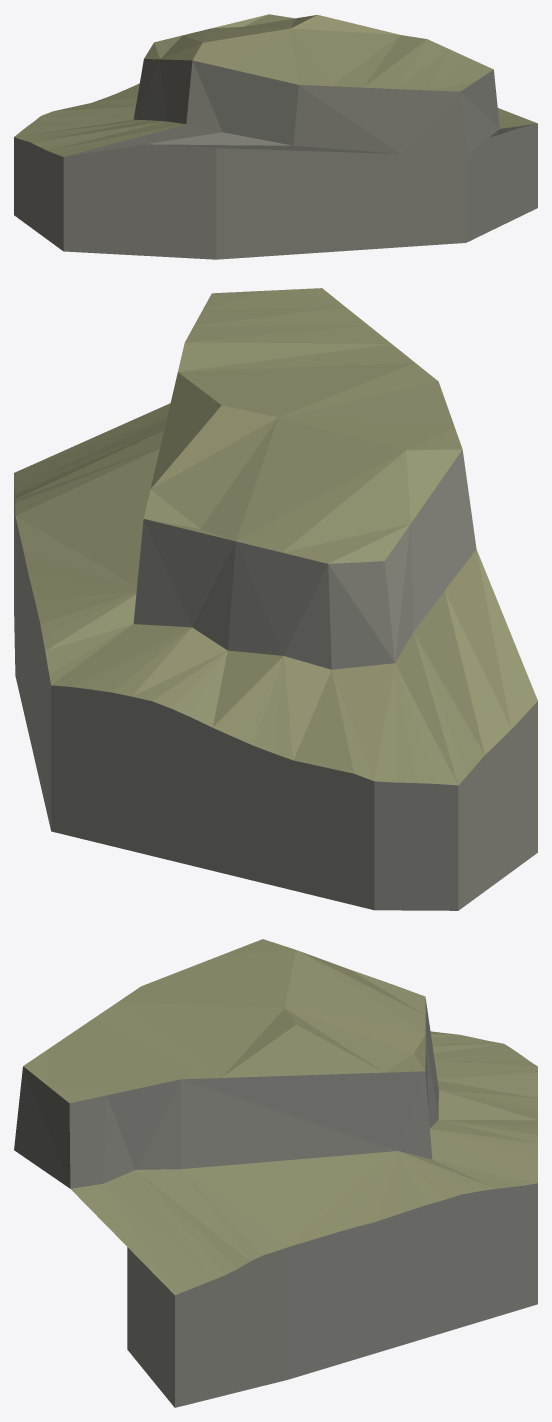
File: cliff_western_mesa.glb
3 views of the same model, one above another, from view 1: azimuth 30°, elevation 25°; view 2: azimuth 150°, elevation 25°; view 3: azimuth 270°, elevation 25° (orthographic). The views are drawn at different scales.
Parts seen in each view (by area): view 1: cliff_western_mesa; view 2: cliff_western_mesa; view 3: cliff_western_mesa.
Part boxes in pixels (x1,y1,x2,y2): cliff_western_mesa: (14, 14, 537, 259); cliff_western_mesa: (14, 288, 537, 910); cliff_western_mesa: (14, 939, 537, 1407).
Bounding box in the file's own units: 143 × 69 × 121.
